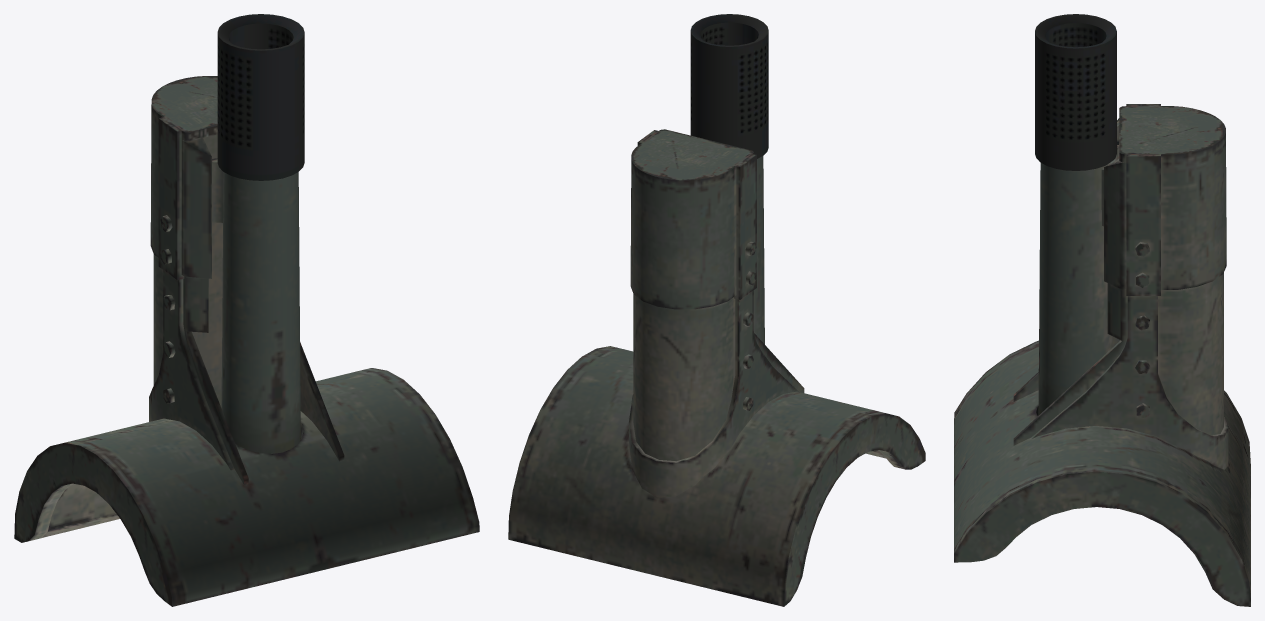
Rendered from Gun_01.glb.
The picture shows the model from 3 angles, left to right: view 1: azimuth 30°, elevation 25°; view 2: azimuth 150°, elevation 25°; view 3: azimuth 270°, elevation 25°; orthographic projection. The views are drawn at different scales.
Parts seen in each view (by area): view 1: set_0_group_0; view 2: set_0_group_0; view 3: set_0_group_0.
Part boxes in pixels (left/top/right/bottom): set_0_group_0: left=14, top=14, right=479, bottom=606; set_0_group_0: left=508, top=14, right=925, bottom=606; set_0_group_0: left=954, top=14, right=1250, bottom=606.
Bounding box in the file's own units: 0.752 × 1.25 × 0.6685.
Materials: 1 (1 with a texture image).
